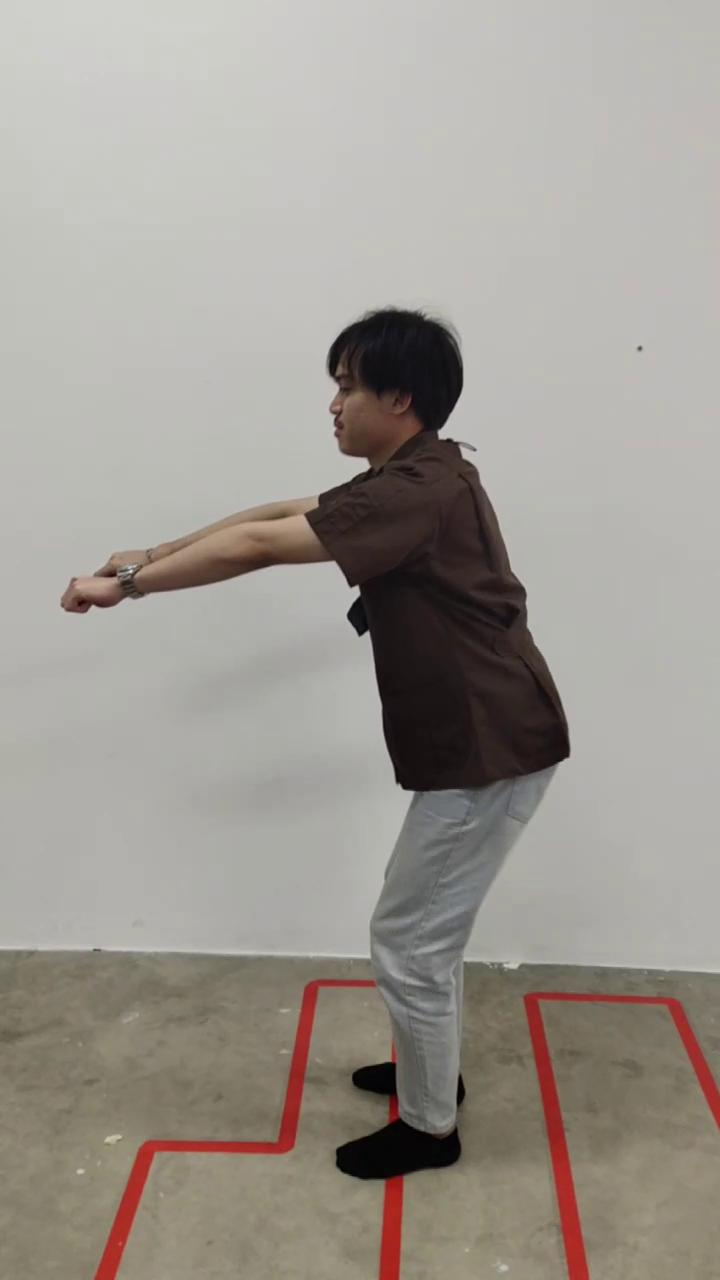squat up: (62, 310, 568, 1179)
